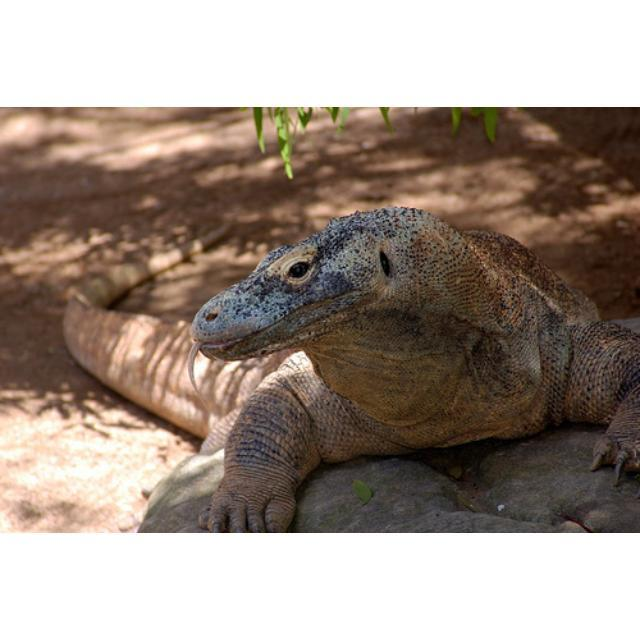KomodoDragon: (59, 202, 638, 530)
